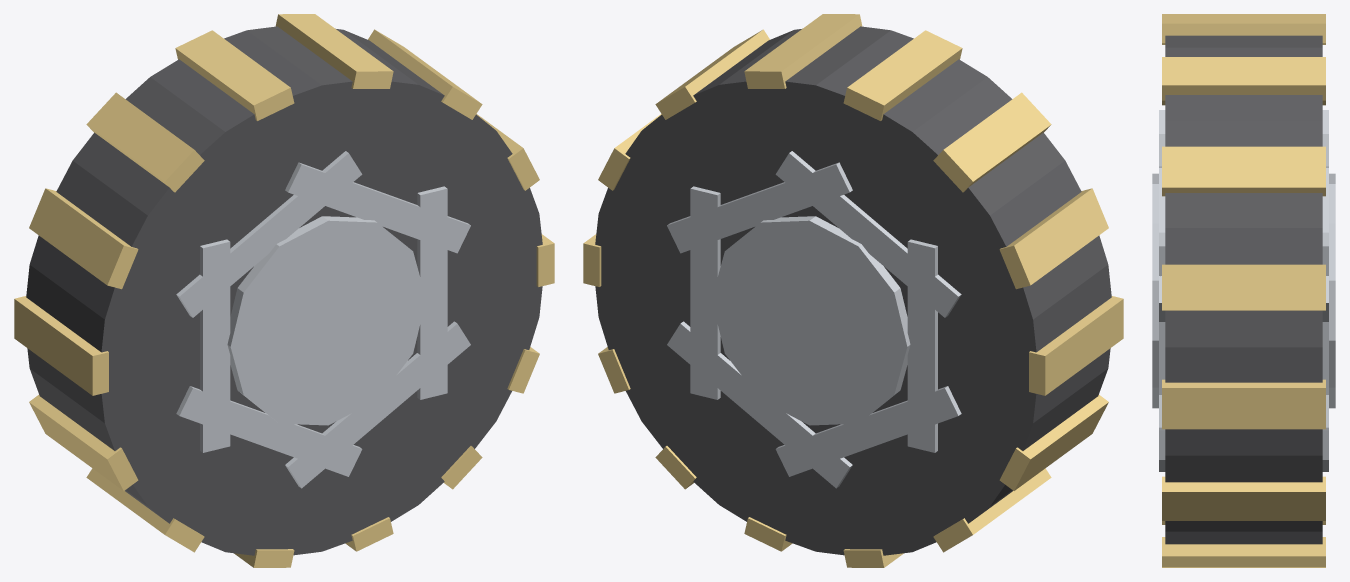
Rendered from rover__wRL.fbx.
3 views of the same model, side by side, from view 1: azimuth 30°, elevation 25°; view 2: azimuth 150°, elevation 25°; view 3: azimuth 270°, elevation 25° (orthographic). The views are drawn at different scales.
Parts seen in each view (by area): view 1: rover__wRL; view 2: rover__wRL; view 3: rover__wRL.
Boxes of the visible parts, x1,y1,x2,y2 form: rover__wRL: [14, 14, 554, 567]; rover__wRL: [583, 14, 1123, 567]; rover__wRL: [1152, 14, 1335, 567].
Bounding box in the file's own units: 0.85 × 0.8443 × 0.28.
